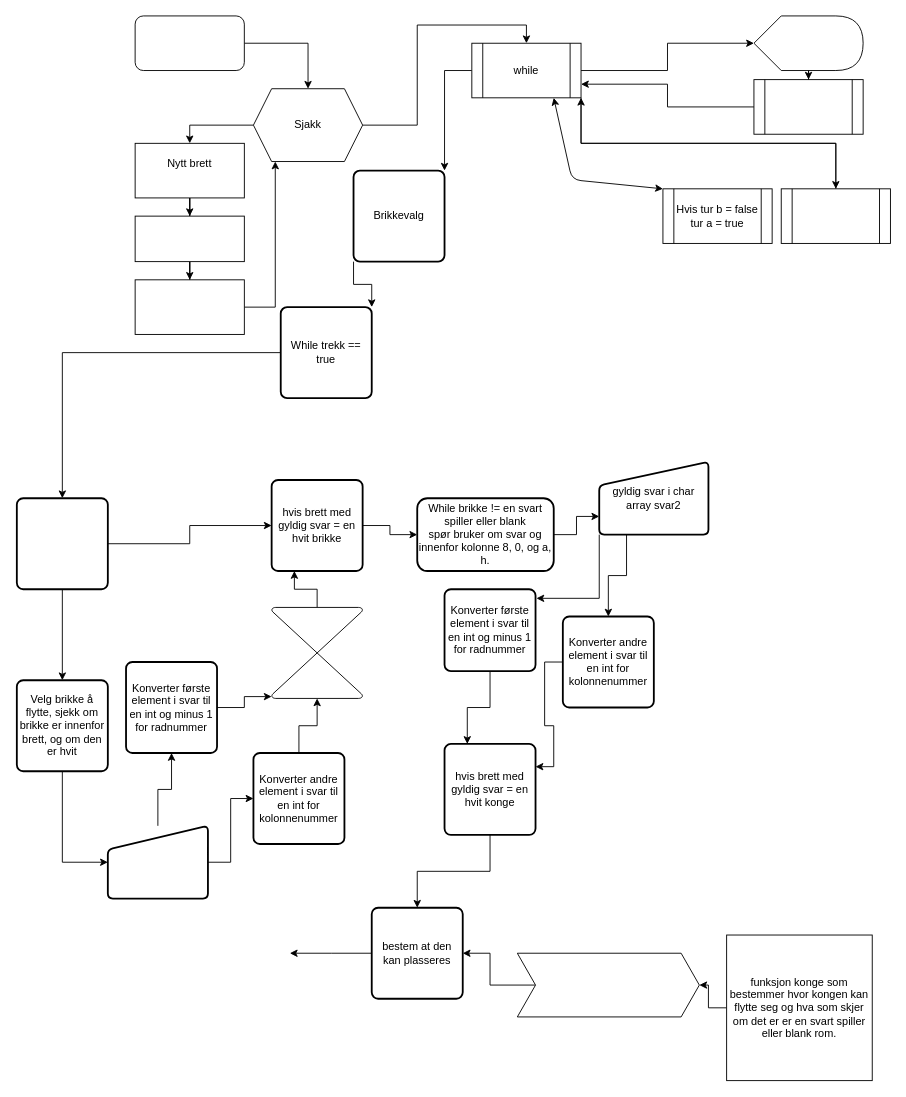
This 906x1097 diagram has some shape labels left out. The centre of each missing label's shape, as x and y in pixels:
Fyll brett med blank: point (189, 238)
Fyll brett med hvite og svarte brikker: point (189, 306)
gyldig svar i char array svar: point (157, 861)
Hvis tur b = false tur a == true: point (835, 215)
If tur1 = true: point (61, 543)
Print brett 8x8: point (808, 106)
Returnerer en bool om kongen kan plasseres: point (607, 984)
Start: point (189, 43)
Vis brett: point (808, 43)
